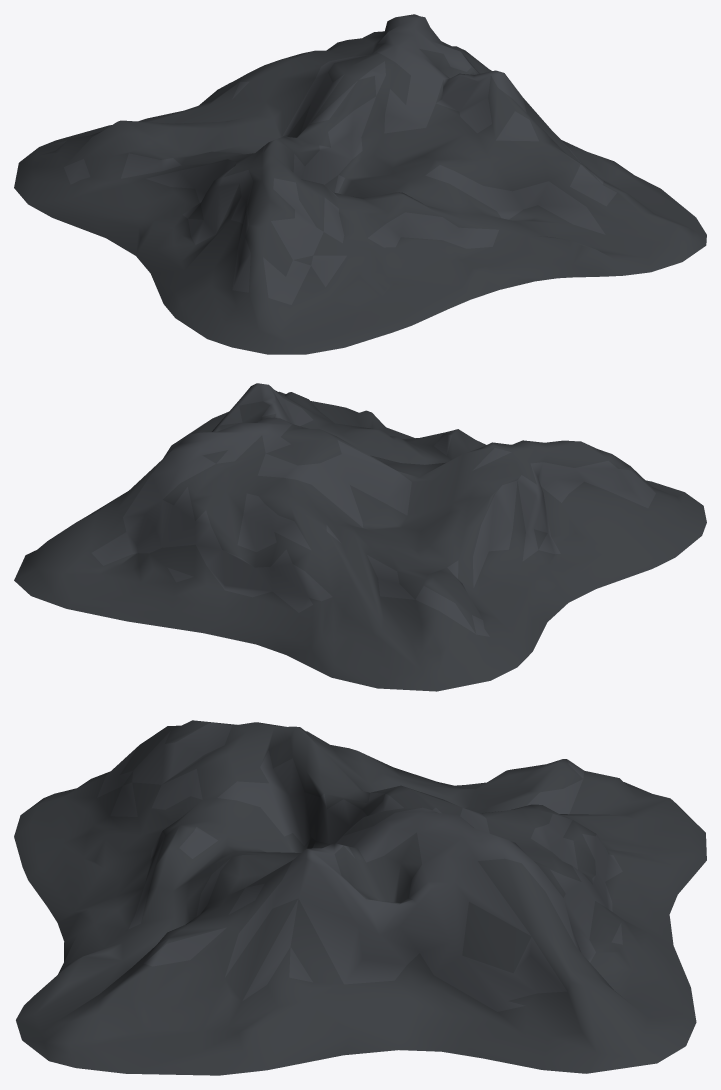
File: crypt_hill.gltf
3 views of the same model, one above another, from view 1: azimuth 30°, elevation 25°; view 2: azimuth 150°, elevation 25°; view 3: azimuth 270°, elevation 25° (orthographic). The views are drawn at different scales.
Visible parts, largest first — view 1: crypt_hill; view 2: crypt_hill; view 3: crypt_hill.
Part boxes in pixels (x1,y1,x2,y2): crypt_hill: (14, 14, 706, 354); crypt_hill: (14, 383, 706, 691); crypt_hill: (14, 720, 706, 1075).
Size of the model in its own units: 22.54 by 5.53 by 22.26.
Materials: 1 (1 with a texture image).
